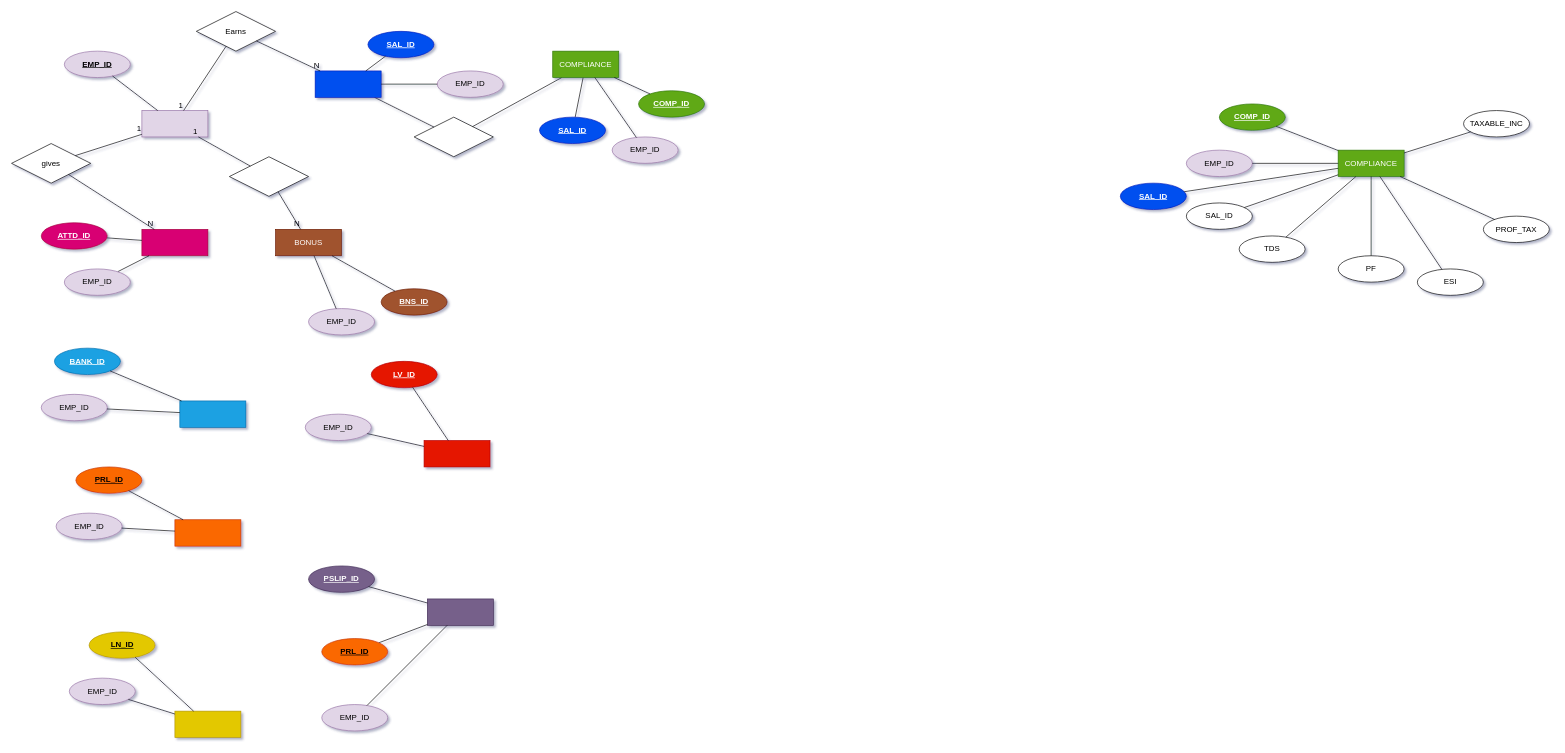
Some shapes in this 1565 by 753 pixel diagram are drawn without their labels. Each missing label, with the centre of its shape:
ATTENDANCE: point 174,242
BANK: point 212,413
DEDUCTION: point 453,136
EMPLOYEE: point 174,123
LEAVE: point 456,453
LOAN: point 207,724
PAYROLL: point 207,532
recieves: point 269,176
SALARY: point 347,83
SALARY_SLIP: point 460,611
